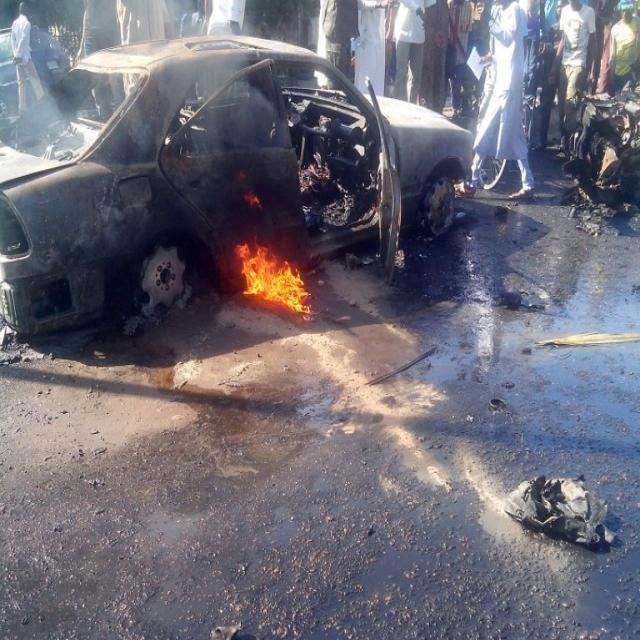Fire: (226, 233, 320, 325)
